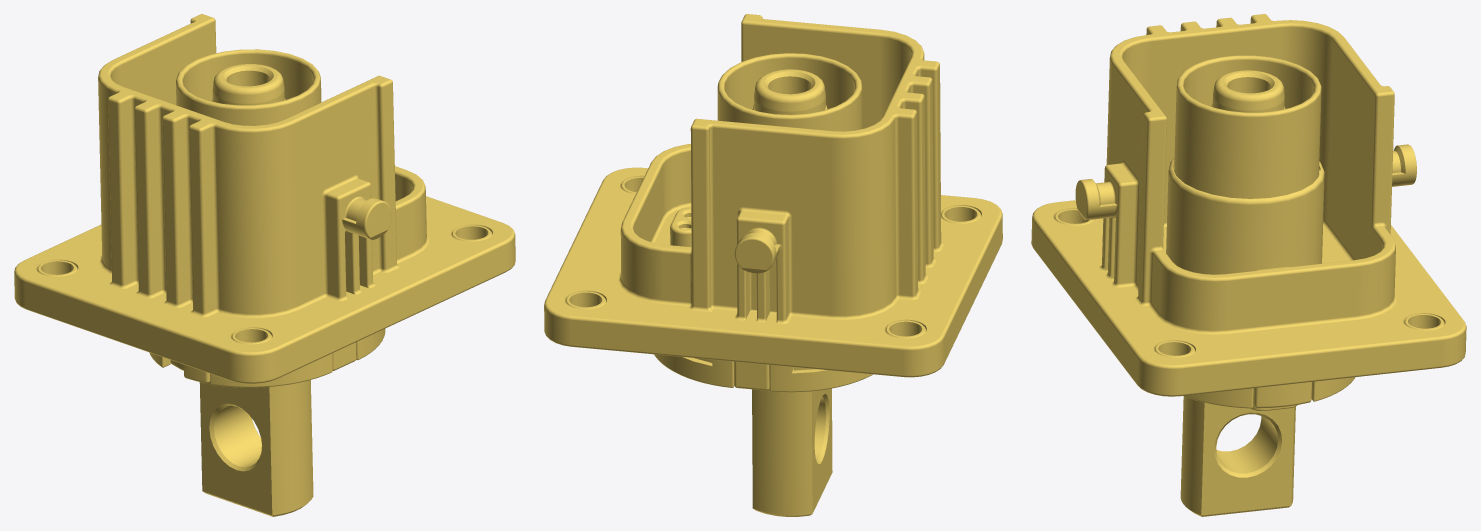
Rendered from EVH1-H1ZJ-WA-CN v1.glb.
The picture shows the model from 3 angles, left to right: view 1: azimuth 30°, elevation 25°; view 2: azimuth 150°, elevation 25°; view 3: azimuth 270°, elevation 25°; orthographic projection.
Parts seen in each view (by area): view 1: EVH1-H1ZJ-WA-CN v1; view 2: EVH1-H1ZJ-WA-CN v1; view 3: EVH1-H1ZJ-WA-CN v1.
Boxes of the visible parts, x1,y1,x2,y2 form: EVH1-H1ZJ-WA-CN v1: (14,14,515,516); EVH1-H1ZJ-WA-CN v1: (544,14,1002,516); EVH1-H1ZJ-WA-CN v1: (1031,14,1466,516).
Size of the model in its own units: 7.62 by 7.55 by 6.95.
